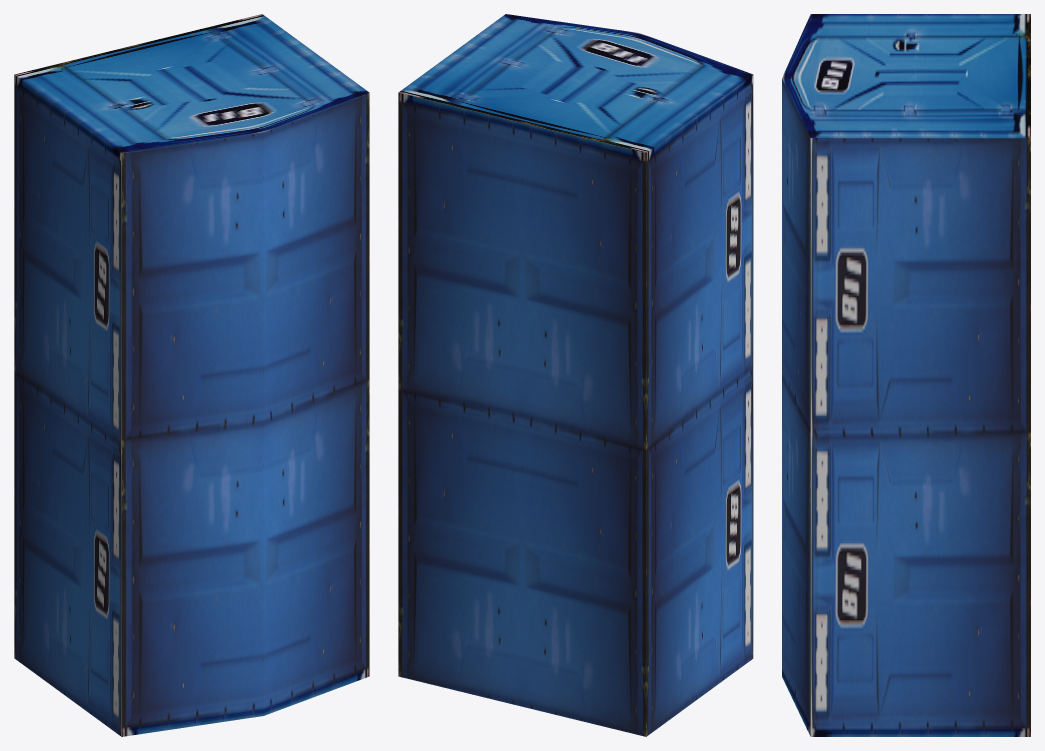
The model's file is urbantrl_blu1a_wtf.obj.
The picture shows the model from 3 angles, left to right: view 1: azimuth 30°, elevation 25°; view 2: azimuth 150°, elevation 25°; view 3: azimuth 270°, elevation 25°; orthographic projection. The views are drawn at different scales.
Parts seen in each view (by area): view 1: group2; view 2: group2; view 3: group2.
Part boxes in pixels (x1,y1,x2,y2): group2: (14,14,369,736); group2: (398,14,753,736); group2: (782,14,1030,736).
Size of the model in its own units: 293 by 660 by 249.
